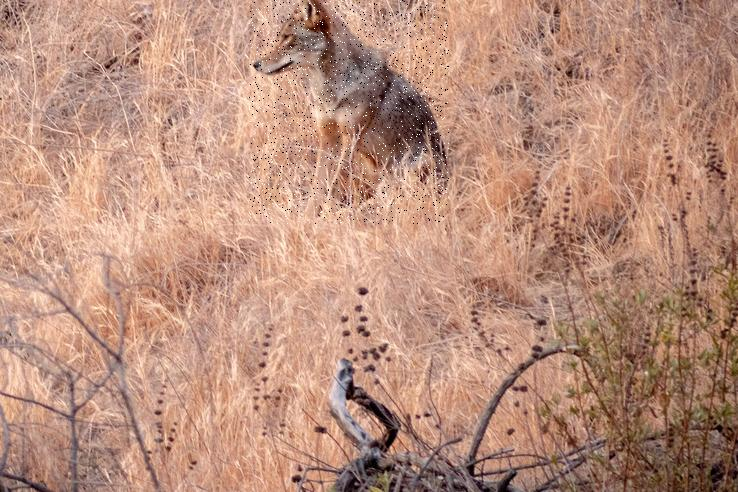Coyote: (249, 0, 449, 224)
